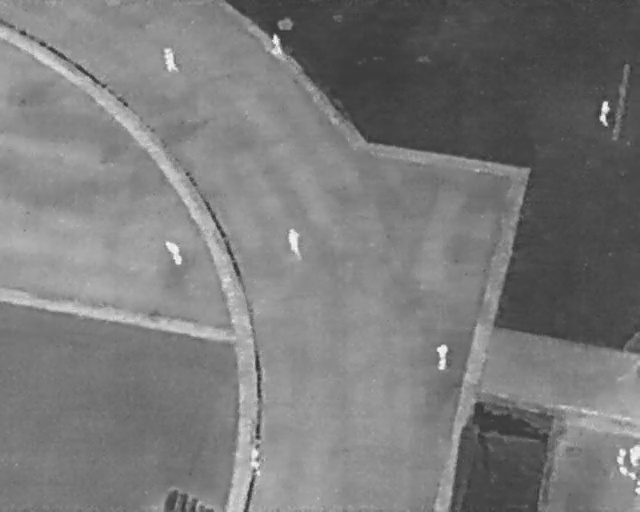DontCare: (617, 439, 640, 491)
Person: (162, 237, 185, 268), (284, 227, 305, 259), (160, 45, 179, 73), (433, 342, 449, 372), (270, 33, 282, 53), (601, 100, 609, 127), (249, 462, 261, 477), (252, 446, 260, 459)
